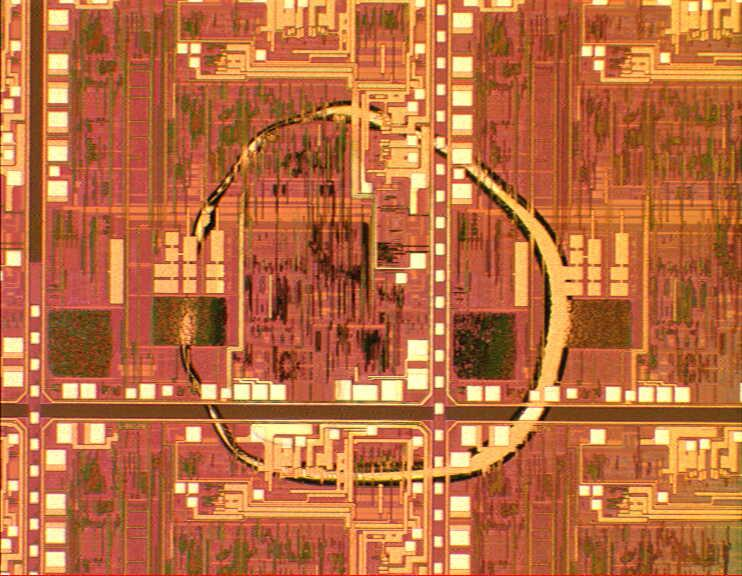COATING BAD: (173, 93, 577, 494)
